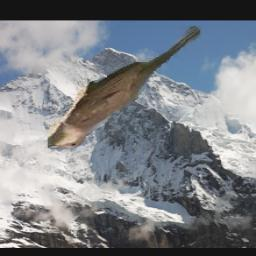Cuckoo: (45, 27, 202, 150)
